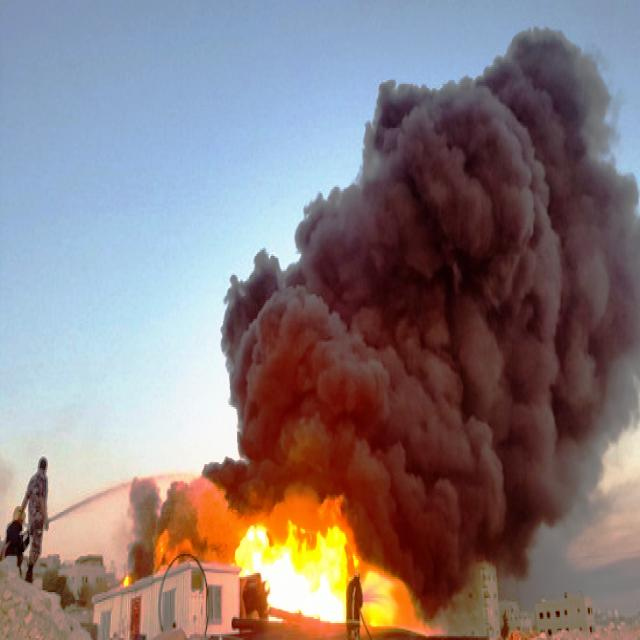api: (242, 524, 372, 630), (371, 575, 437, 640), (211, 516, 245, 570)
asap: (201, 40, 637, 520), (371, 446, 591, 579), (125, 473, 208, 571)
